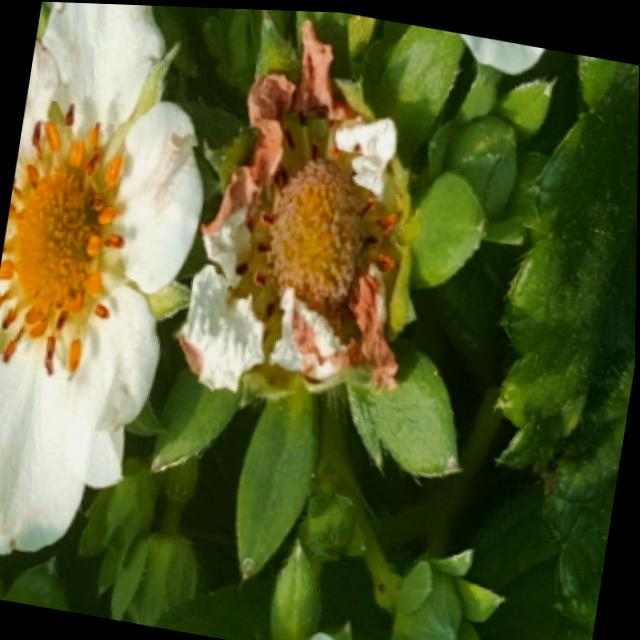Blossom Blight: (236, 103, 404, 347), (0, 98, 132, 385)
